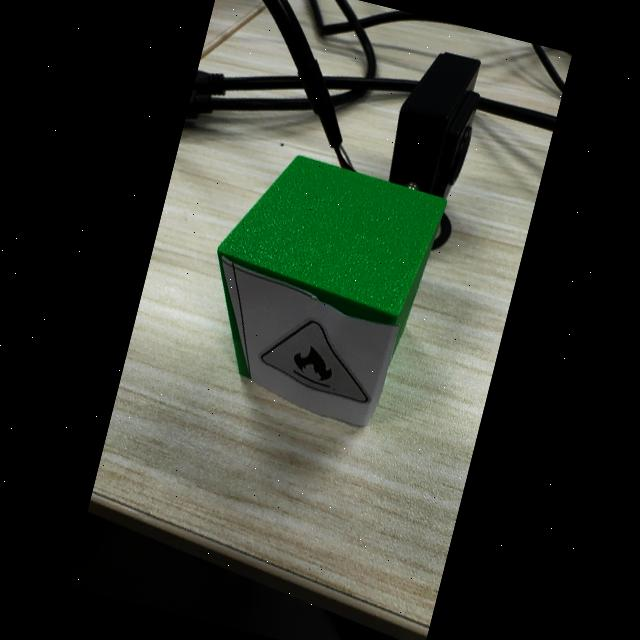Fire: (260, 320, 368, 403)
